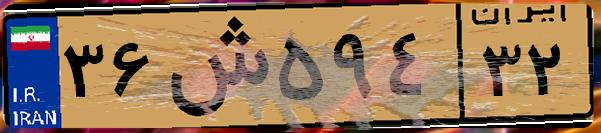2: (525, 38, 570, 115)
3: (57, 26, 110, 100), (475, 38, 525, 113)
4: (385, 28, 445, 110)
5: (270, 28, 330, 110)
6: (110, 28, 158, 98)
9: (330, 28, 385, 110)
ش: (158, 12, 270, 120)
